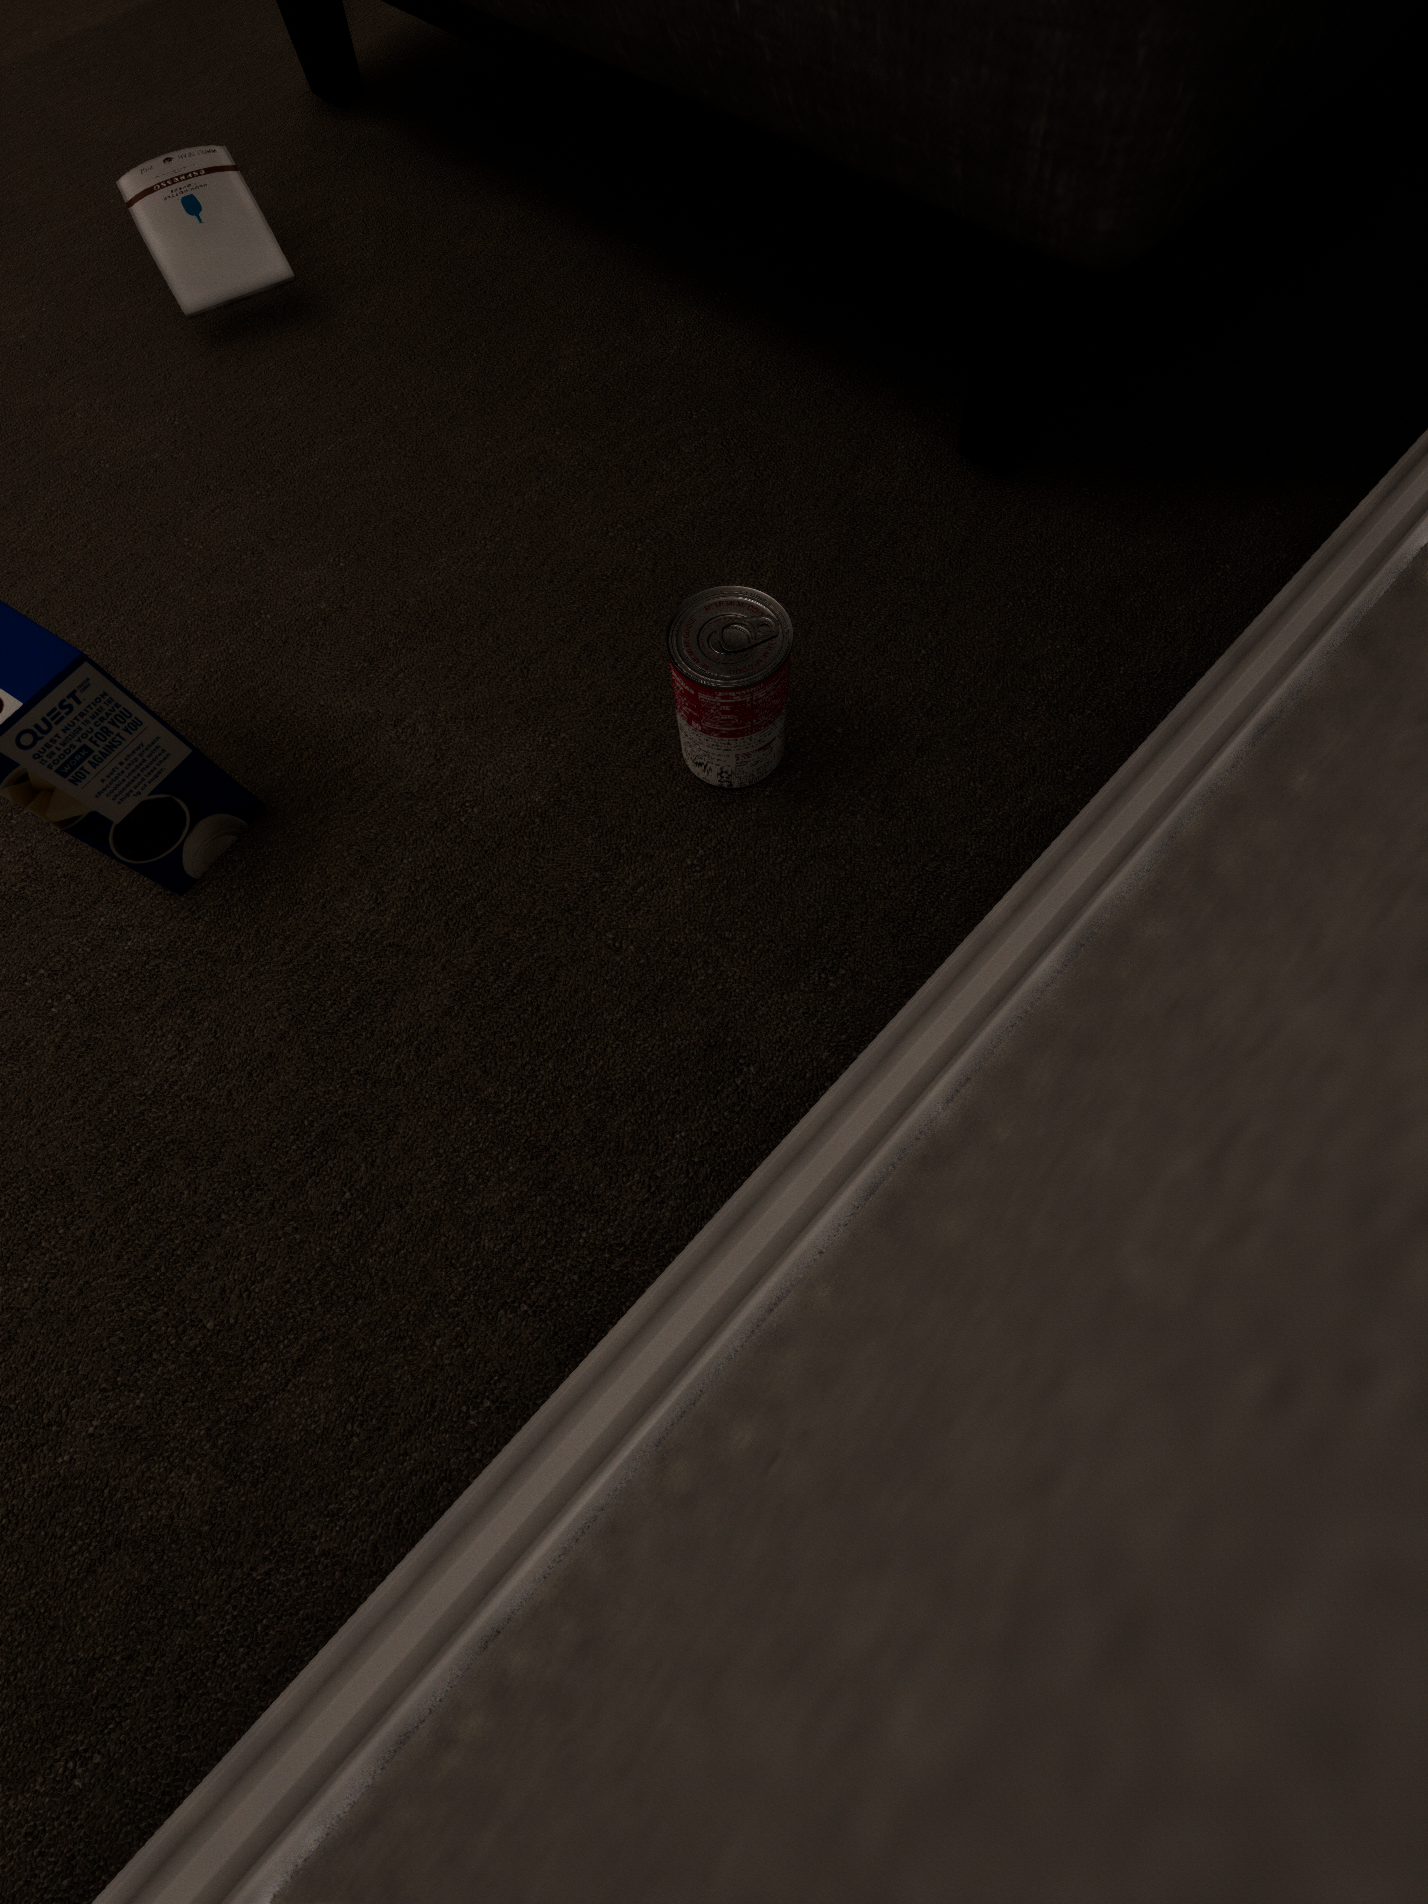soup: (664, 585, 793, 790)
